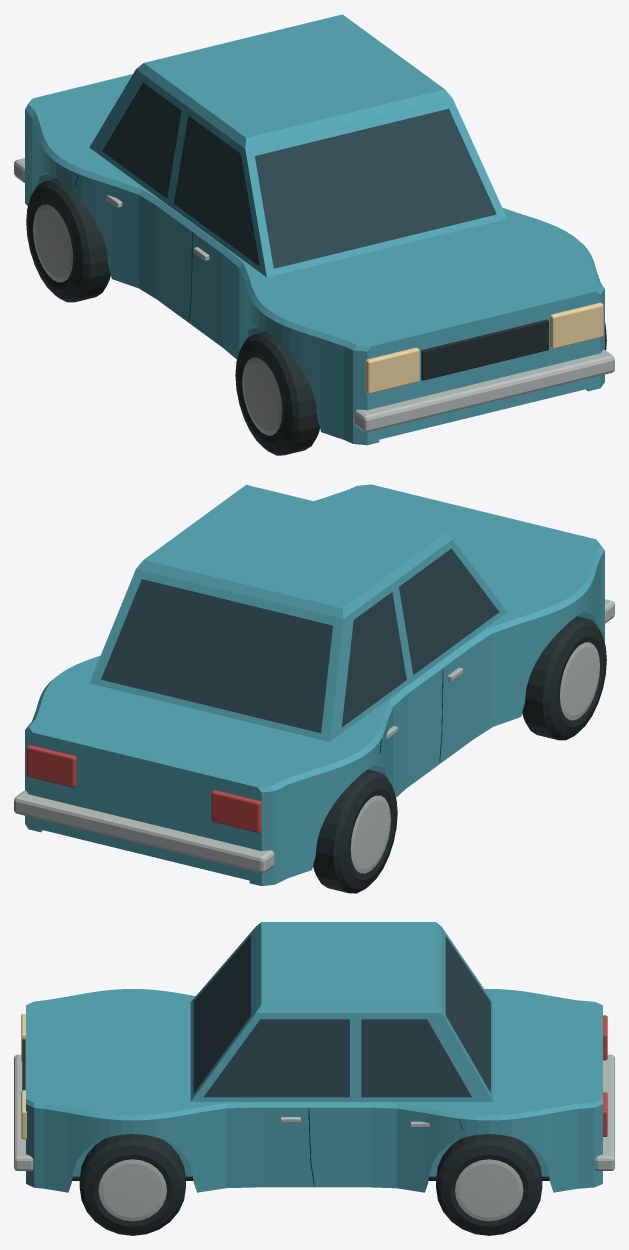
File: asset.glb
The picture shows the model from 3 angles, top to bottom: view 1: azimuth 30°, elevation 25°; view 2: azimuth 150°, elevation 25°; view 3: azimuth 270°, elevation 25°; orthographic projection. The views are drawn at different scales.
Parts seen in each view (by area): view 1: Body_ThreeBox_LowerShell, Cabin_Painted_Pillars_Roof, Glass_Windshield, wheel_rl, wheel_fl, Glass_Front_L, Bumper_Front, Glass_Rear_L, Grille_Dark, Headlight_L, Headlight_R; view 2: Body_ThreeBox_LowerShell, Cabin_Painted_Pillars_Roof, Glass_RearWindow, wheel_rl, wheel_fl, Glass_Front_L, Bumper_Rear, Glass_Rear_L, Taillight_L, Taillight_R; view 3: Body_ThreeBox_LowerShell, Cabin_Painted_Pillars_Roof, Glass_Front_R, wheel_fr, wheel_rr, Glass_Rear_R, Glass_Windshield, Glass_RearWindow, Bumper_Rear, Bumper_Front.
Boxes of the visible parts, bbox=[...] form: Body_ThreeBox_LowerShell: bbox=[25, 74, 604, 445]; Cabin_Painted_Pillars_Roof: bbox=[89, 14, 507, 277]; Glass_Windshield: bbox=[255, 108, 496, 268]; wheel_rl: bbox=[26, 178, 110, 302]; wheel_fl: bbox=[235, 331, 319, 455]; Glass_Front_L: bbox=[174, 115, 259, 266]; Bumper_Front: bbox=[354, 349, 614, 432]; Glass_Rear_L: bbox=[102, 82, 181, 198]; Grille_Dark: bbox=[421, 319, 548, 380]; Headlight_L: bbox=[365, 347, 419, 393]; Headlight_R: bbox=[550, 302, 603, 348]; Body_ThreeBox_LowerShell: bbox=[25, 484, 604, 886]; Cabin_Painted_Pillars_Roof: bbox=[89, 484, 506, 741]; Glass_RearWindow: bbox=[101, 579, 332, 733]; wheel_rl: bbox=[313, 769, 397, 893]; wheel_fl: bbox=[522, 616, 606, 740]; Glass_Front_L: bbox=[399, 548, 499, 674]; Bumper_Rear: bbox=[14, 790, 274, 873]; Glass_Rear_L: bbox=[341, 592, 406, 727]; Taillight_L: bbox=[211, 790, 261, 832]; Taillight_R: bbox=[26, 745, 76, 787]; Body_ThreeBox_LowerShell: bbox=[26, 989, 602, 1192]; Cabin_Painted_Pillars_Roof: bbox=[190, 922, 493, 1101]; Glass_Front_R: bbox=[204, 1019, 349, 1097]; wheel_fr: bbox=[79, 1134, 185, 1235]; wheel_rr: bbox=[436, 1134, 542, 1235]; Glass_Rear_R: bbox=[361, 1019, 471, 1097]; Glass_Windshield: bbox=[193, 935, 250, 1093]; Glass_RearWindow: bbox=[445, 936, 490, 1092]; Bumper_Rear: bbox=[595, 1054, 614, 1170]; Bumper_Front: bbox=[14, 1054, 33, 1170].
Size of the model in its own units: 2.25 by 1.65 by 4.3.
